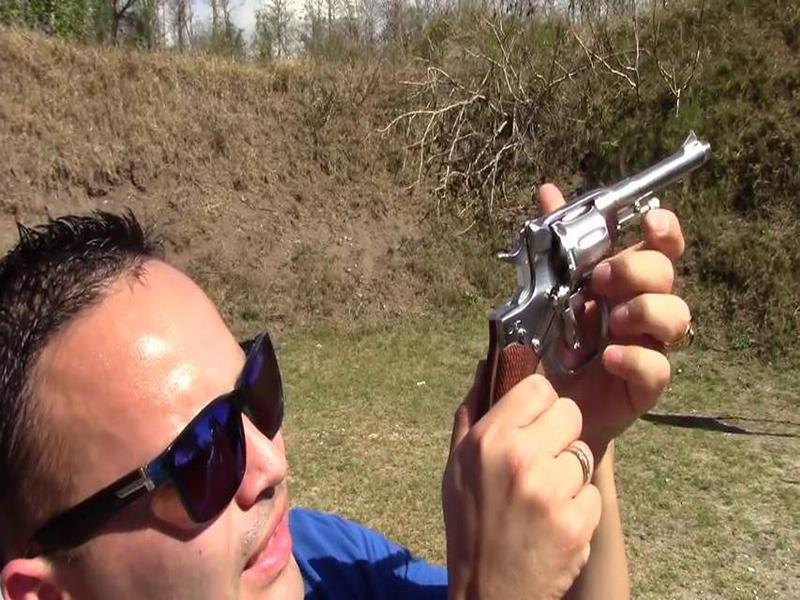Revolver: (451, 118, 735, 419)
